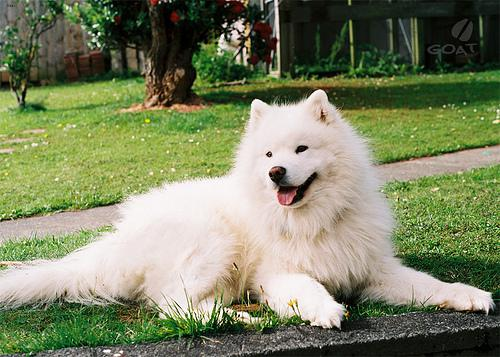dog-samoyed: (252, 91, 335, 209)
